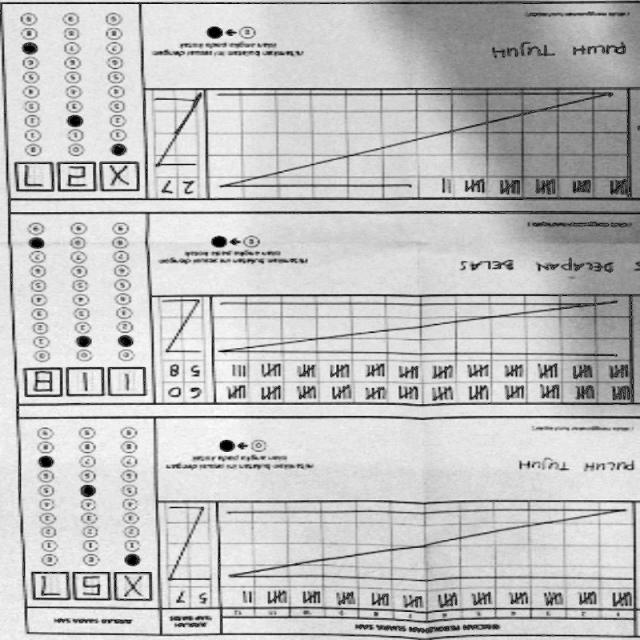Suara: (31, 571, 158, 609), (13, 161, 145, 196), (21, 366, 151, 400)
